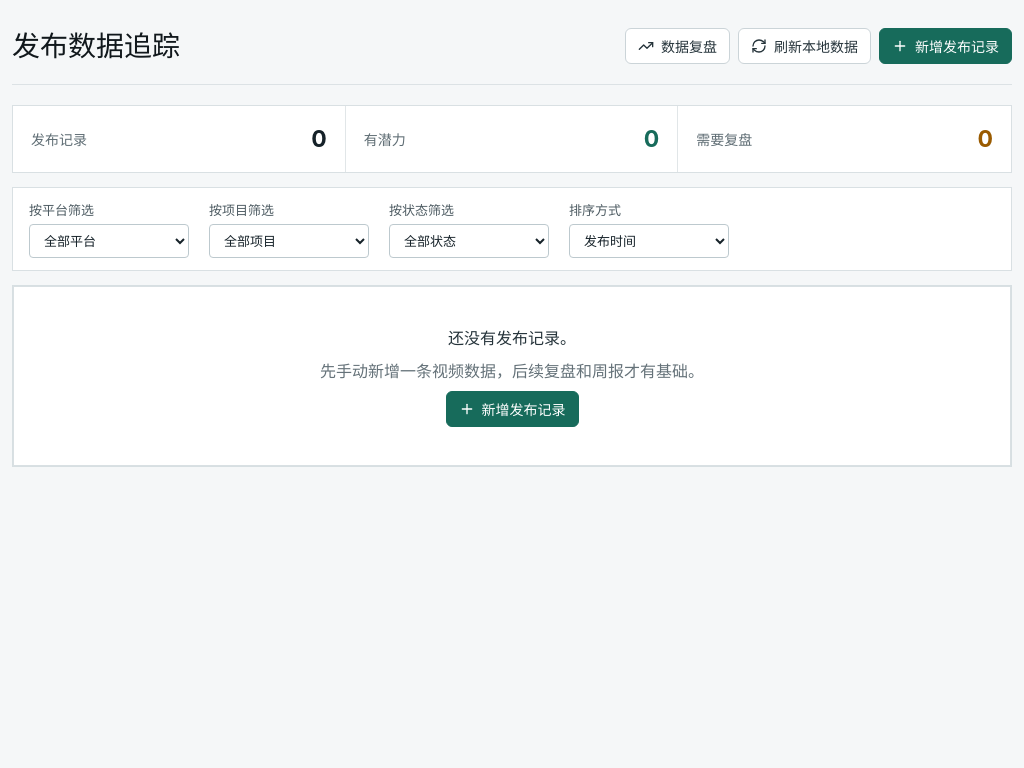
Test: 发布数据追踪页面 › 没有发布记录时提供新增入口
Expected: the text "还没有发布记录。" is shown, [448,325,576,349]
Click the button "新增发布记录" below "先手动新增一条视频数据，后续复盘和周报才有基础。". click: (512, 409)
box: [446,391,578,427]
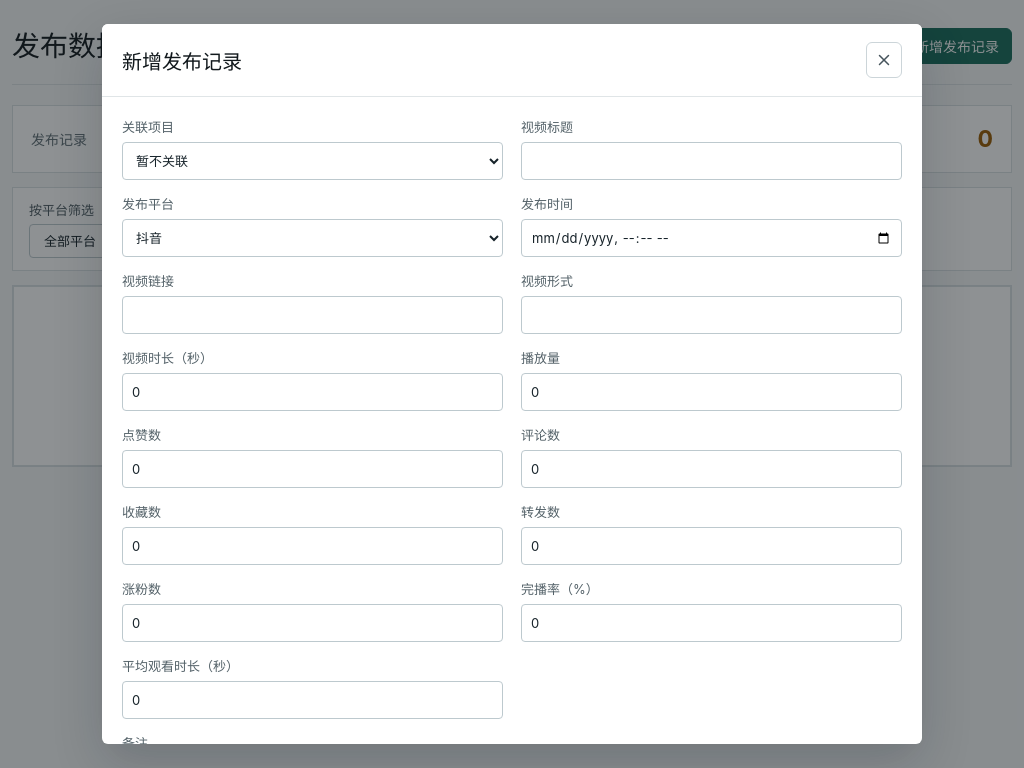
Now the dialog is shown
